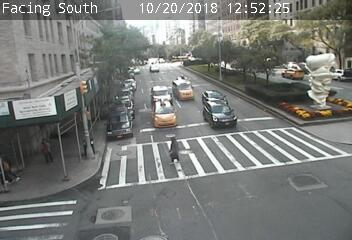car: (207, 105, 230, 129), (153, 102, 175, 125), (173, 80, 194, 99), (152, 87, 173, 101), (205, 91, 225, 103), (149, 62, 159, 72)
